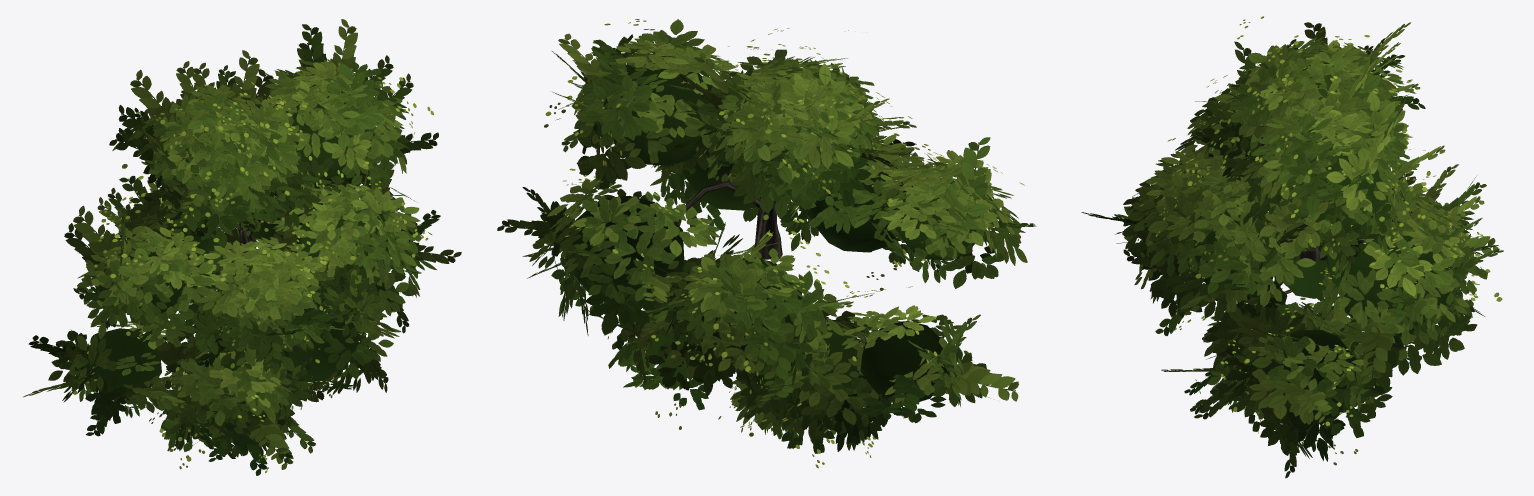
Rendered from CrePlant02.glb.
3 views of the same model, side by side, from view 1: azimuth 30°, elevation 25°; view 2: azimuth 150°, elevation 25°; view 3: azimuth 270°, elevation 25° (orthographic). The views are drawn at different scales.
Visible parts, largest first — view 1: CrePlant02_leaves; view 2: CrePlant02_leaves; view 3: CrePlant02_leaves.
Boxes of the visible parts, box(x1,y1,x2,y2) form: CrePlant02_leaves: box(23, 19, 461, 475); CrePlant02_leaves: box(497, 19, 1036, 468); CrePlant02_leaves: box(1081, 16, 1503, 478).
Bounding box in the file's own units: 3.37 × 2.96 × 2.85.
3 materials, 2 textured.
